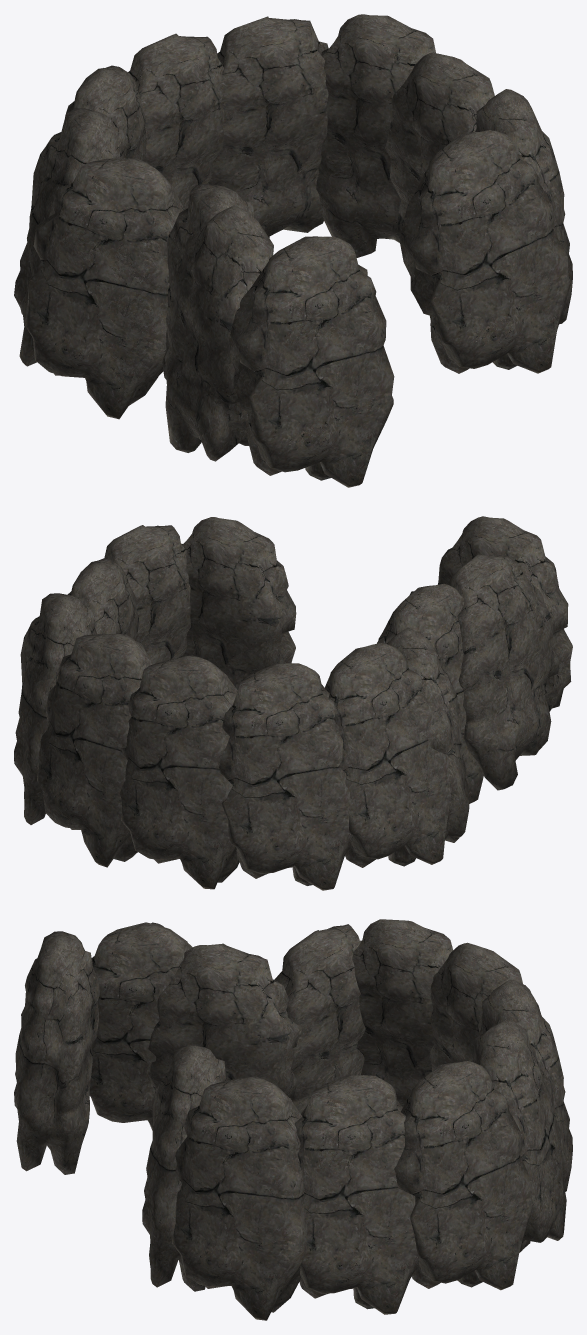
File: TwinPeakRocksShape12.dae
3 views of the same model, one above another, from view 1: azimuth 30°, elevation 25°; view 2: azimuth 150°, elevation 25°; view 3: azimuth 270°, elevation 25° (orthographic). The views are drawn at different scales.
Visible parts, largest first — view 1: TwinPeakRocks12; view 2: TwinPeakRocks12; view 3: TwinPeakRocks12.
Part boxes in pixels (bbox=[...]): TwinPeakRocks12: bbox=[14, 14, 572, 487]; TwinPeakRocks12: bbox=[14, 516, 572, 890]; TwinPeakRocks12: bbox=[14, 919, 572, 1320].
Size of the model in its own units: 462 by 238 by 500.
